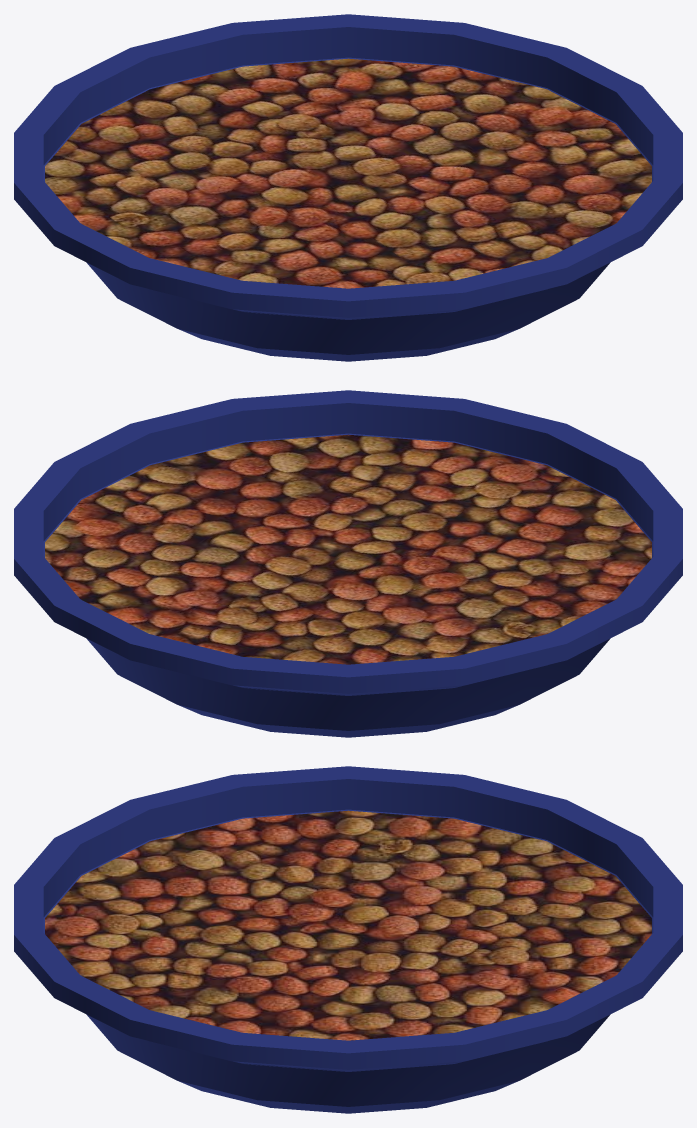
File: Feeder.FBX
3 renders of one model, top to bottom at view 1: azimuth 30°, elevation 25°; view 2: azimuth 150°, elevation 25°; view 3: azimuth 270°, elevation 25°, orthographic.
Visible parts, largest first — view 1: feeder; view 2: feeder; view 3: feeder.
Boxes of the visible parts, box(x1,y1,x2,y2) form: feeder: box(14, 14, 682, 361); feeder: box(14, 390, 682, 737); feeder: box(14, 766, 682, 1113).
Bounding box in the file's own units: 25.68 × 25.29 × 4.48.
Materials: 1 (1 with a texture image).
